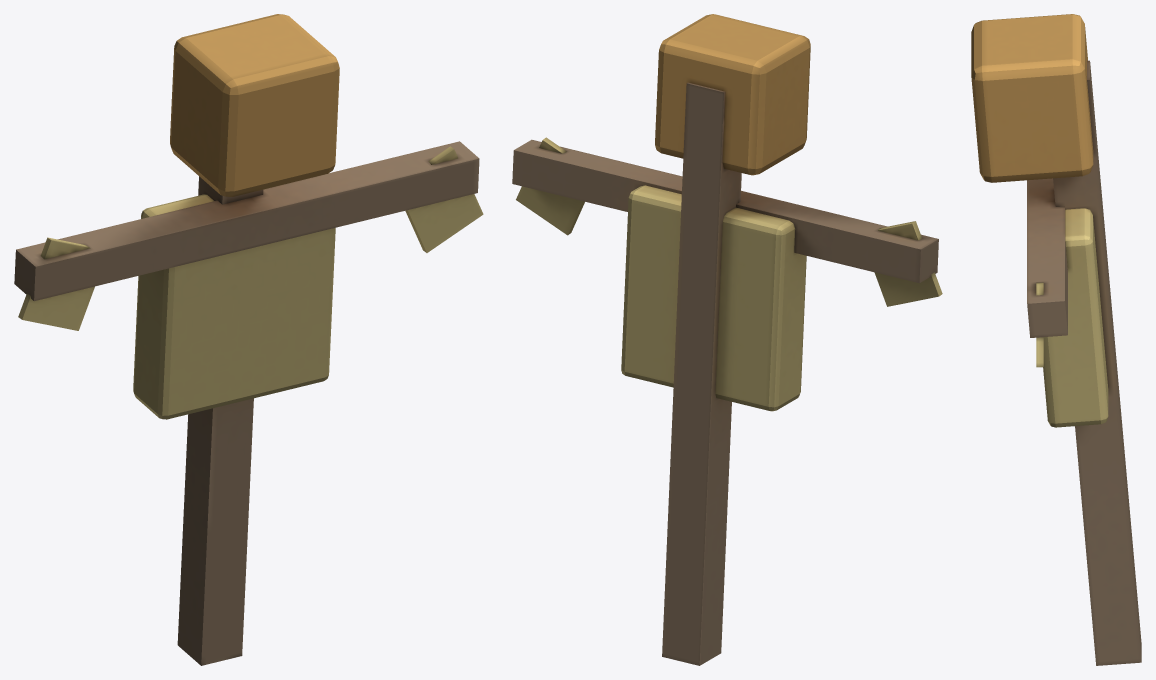
File: scarecrow.glb
3 views of the same model, side by side, from view 1: azimuth 30°, elevation 25°; view 2: azimuth 150°, elevation 25°; view 3: azimuth 270°, elevation 25° (orthographic). The views are drawn at different scales.
Visible parts, largest first — view 1: scarecrow; view 2: scarecrow; view 3: scarecrow.
Part boxes in pixels (x1,y1,x2,y2): scarecrow: [14, 14, 483, 665]; scarecrow: [512, 14, 942, 665]; scarecrow: [971, 14, 1141, 665].
Bounding box in the file's own units: 1.35 × 1.8 × 0.4484.
3 materials, 3 textured.
